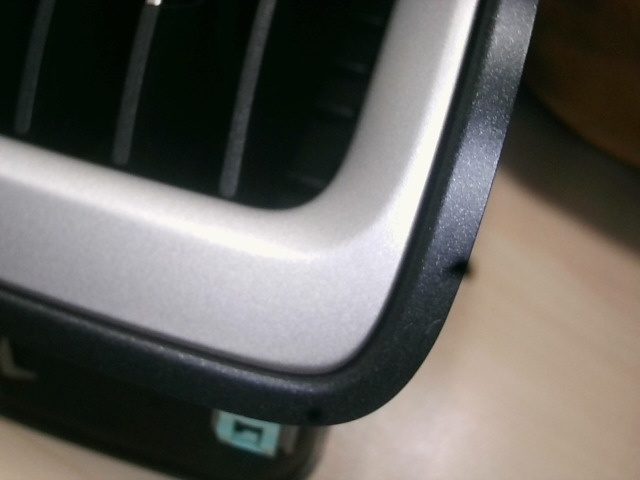NG: (423, 310, 443, 334)
